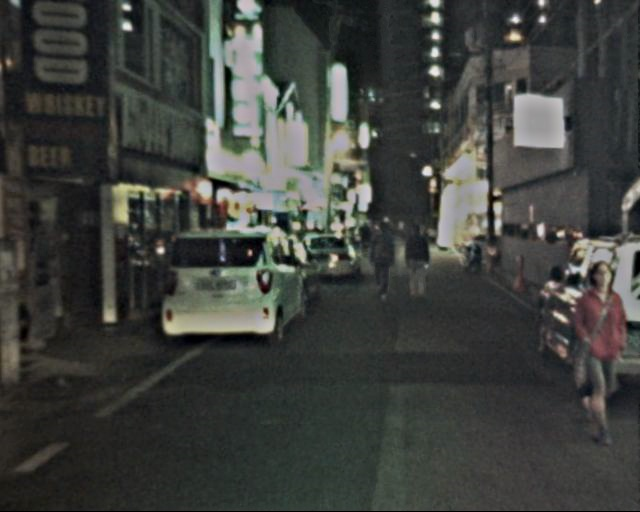person: (558, 264, 637, 441), (402, 224, 435, 299), (369, 224, 399, 300)
